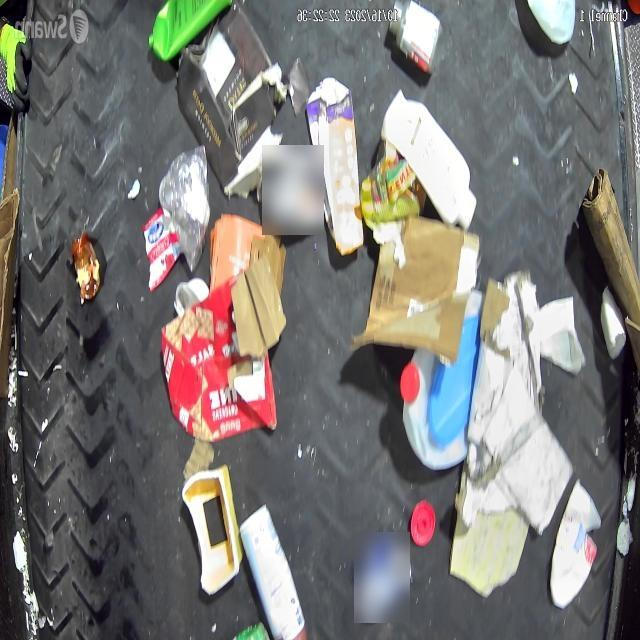non_white_jug: (306, 76, 364, 256), (150, 1, 236, 64)
